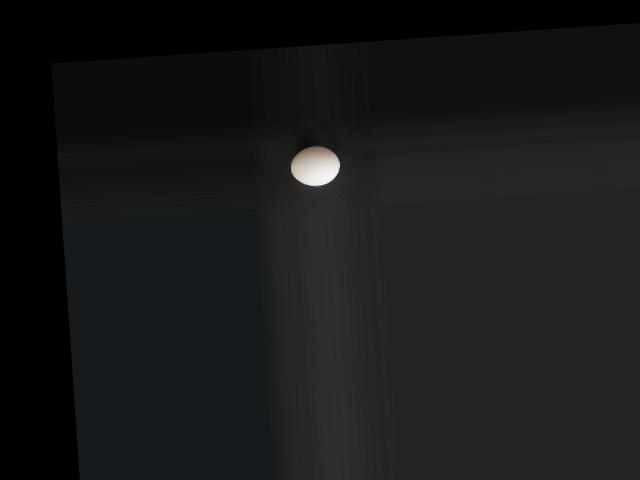egg: (288, 144, 339, 187)
